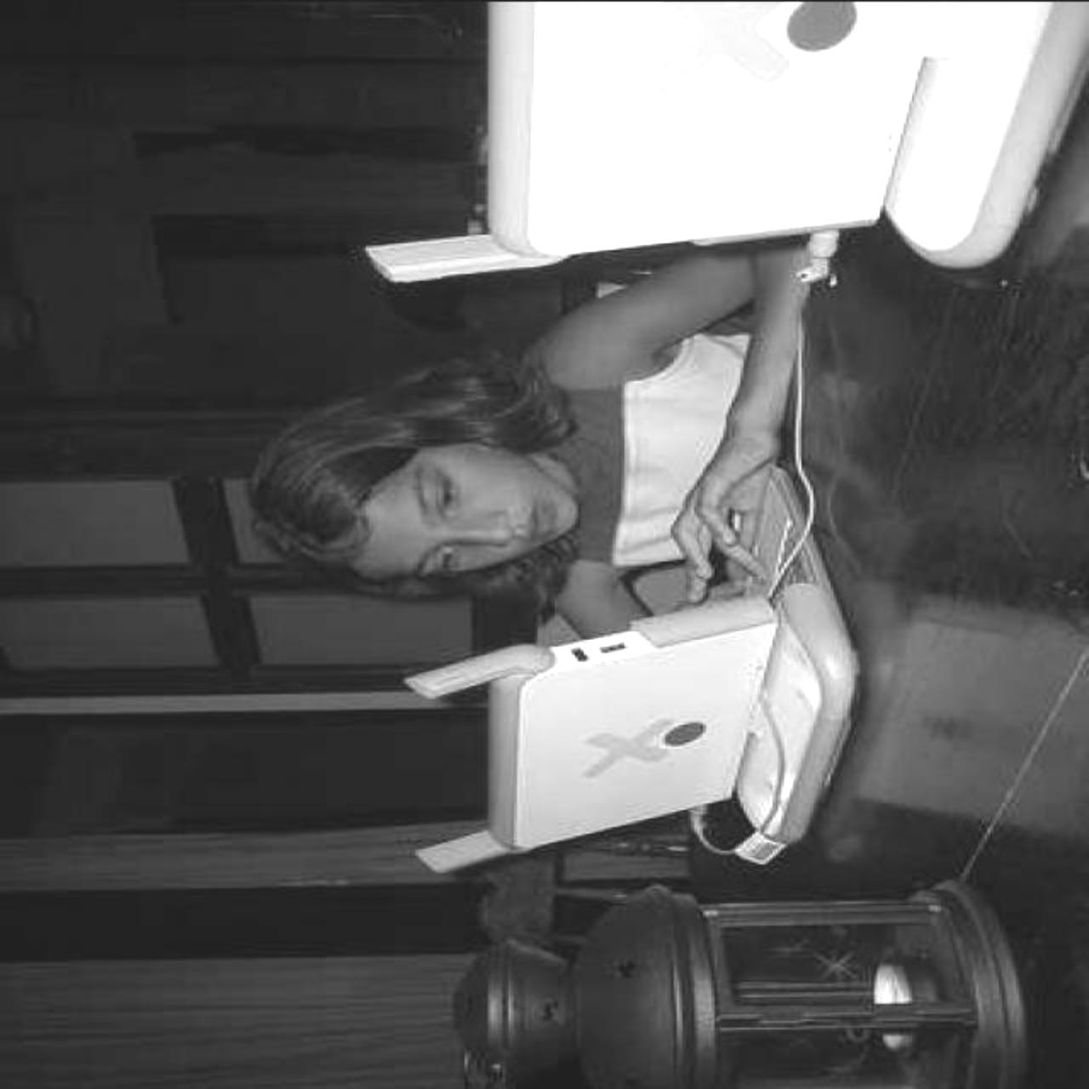laptop: (487, 1, 1086, 265), (493, 468, 868, 873)
